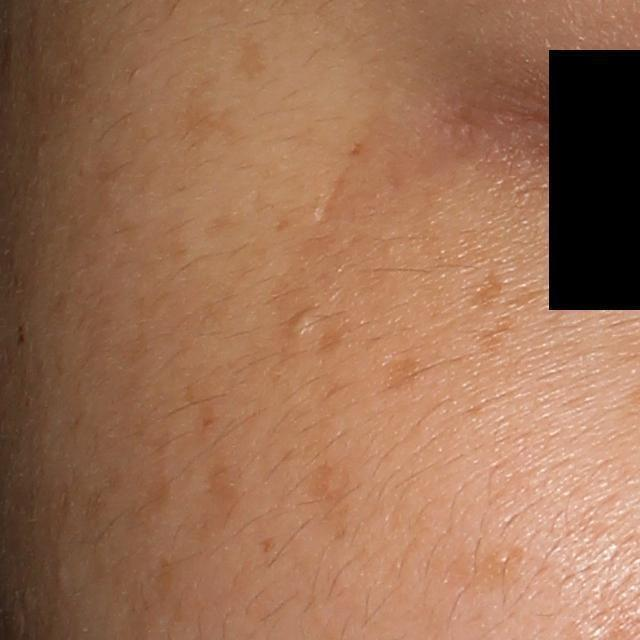comedo: (294, 308, 318, 341)
melasma: (303, 458, 358, 542), (135, 417, 177, 516), (233, 32, 268, 77), (381, 356, 422, 390), (471, 270, 505, 309), (312, 327, 351, 356)
